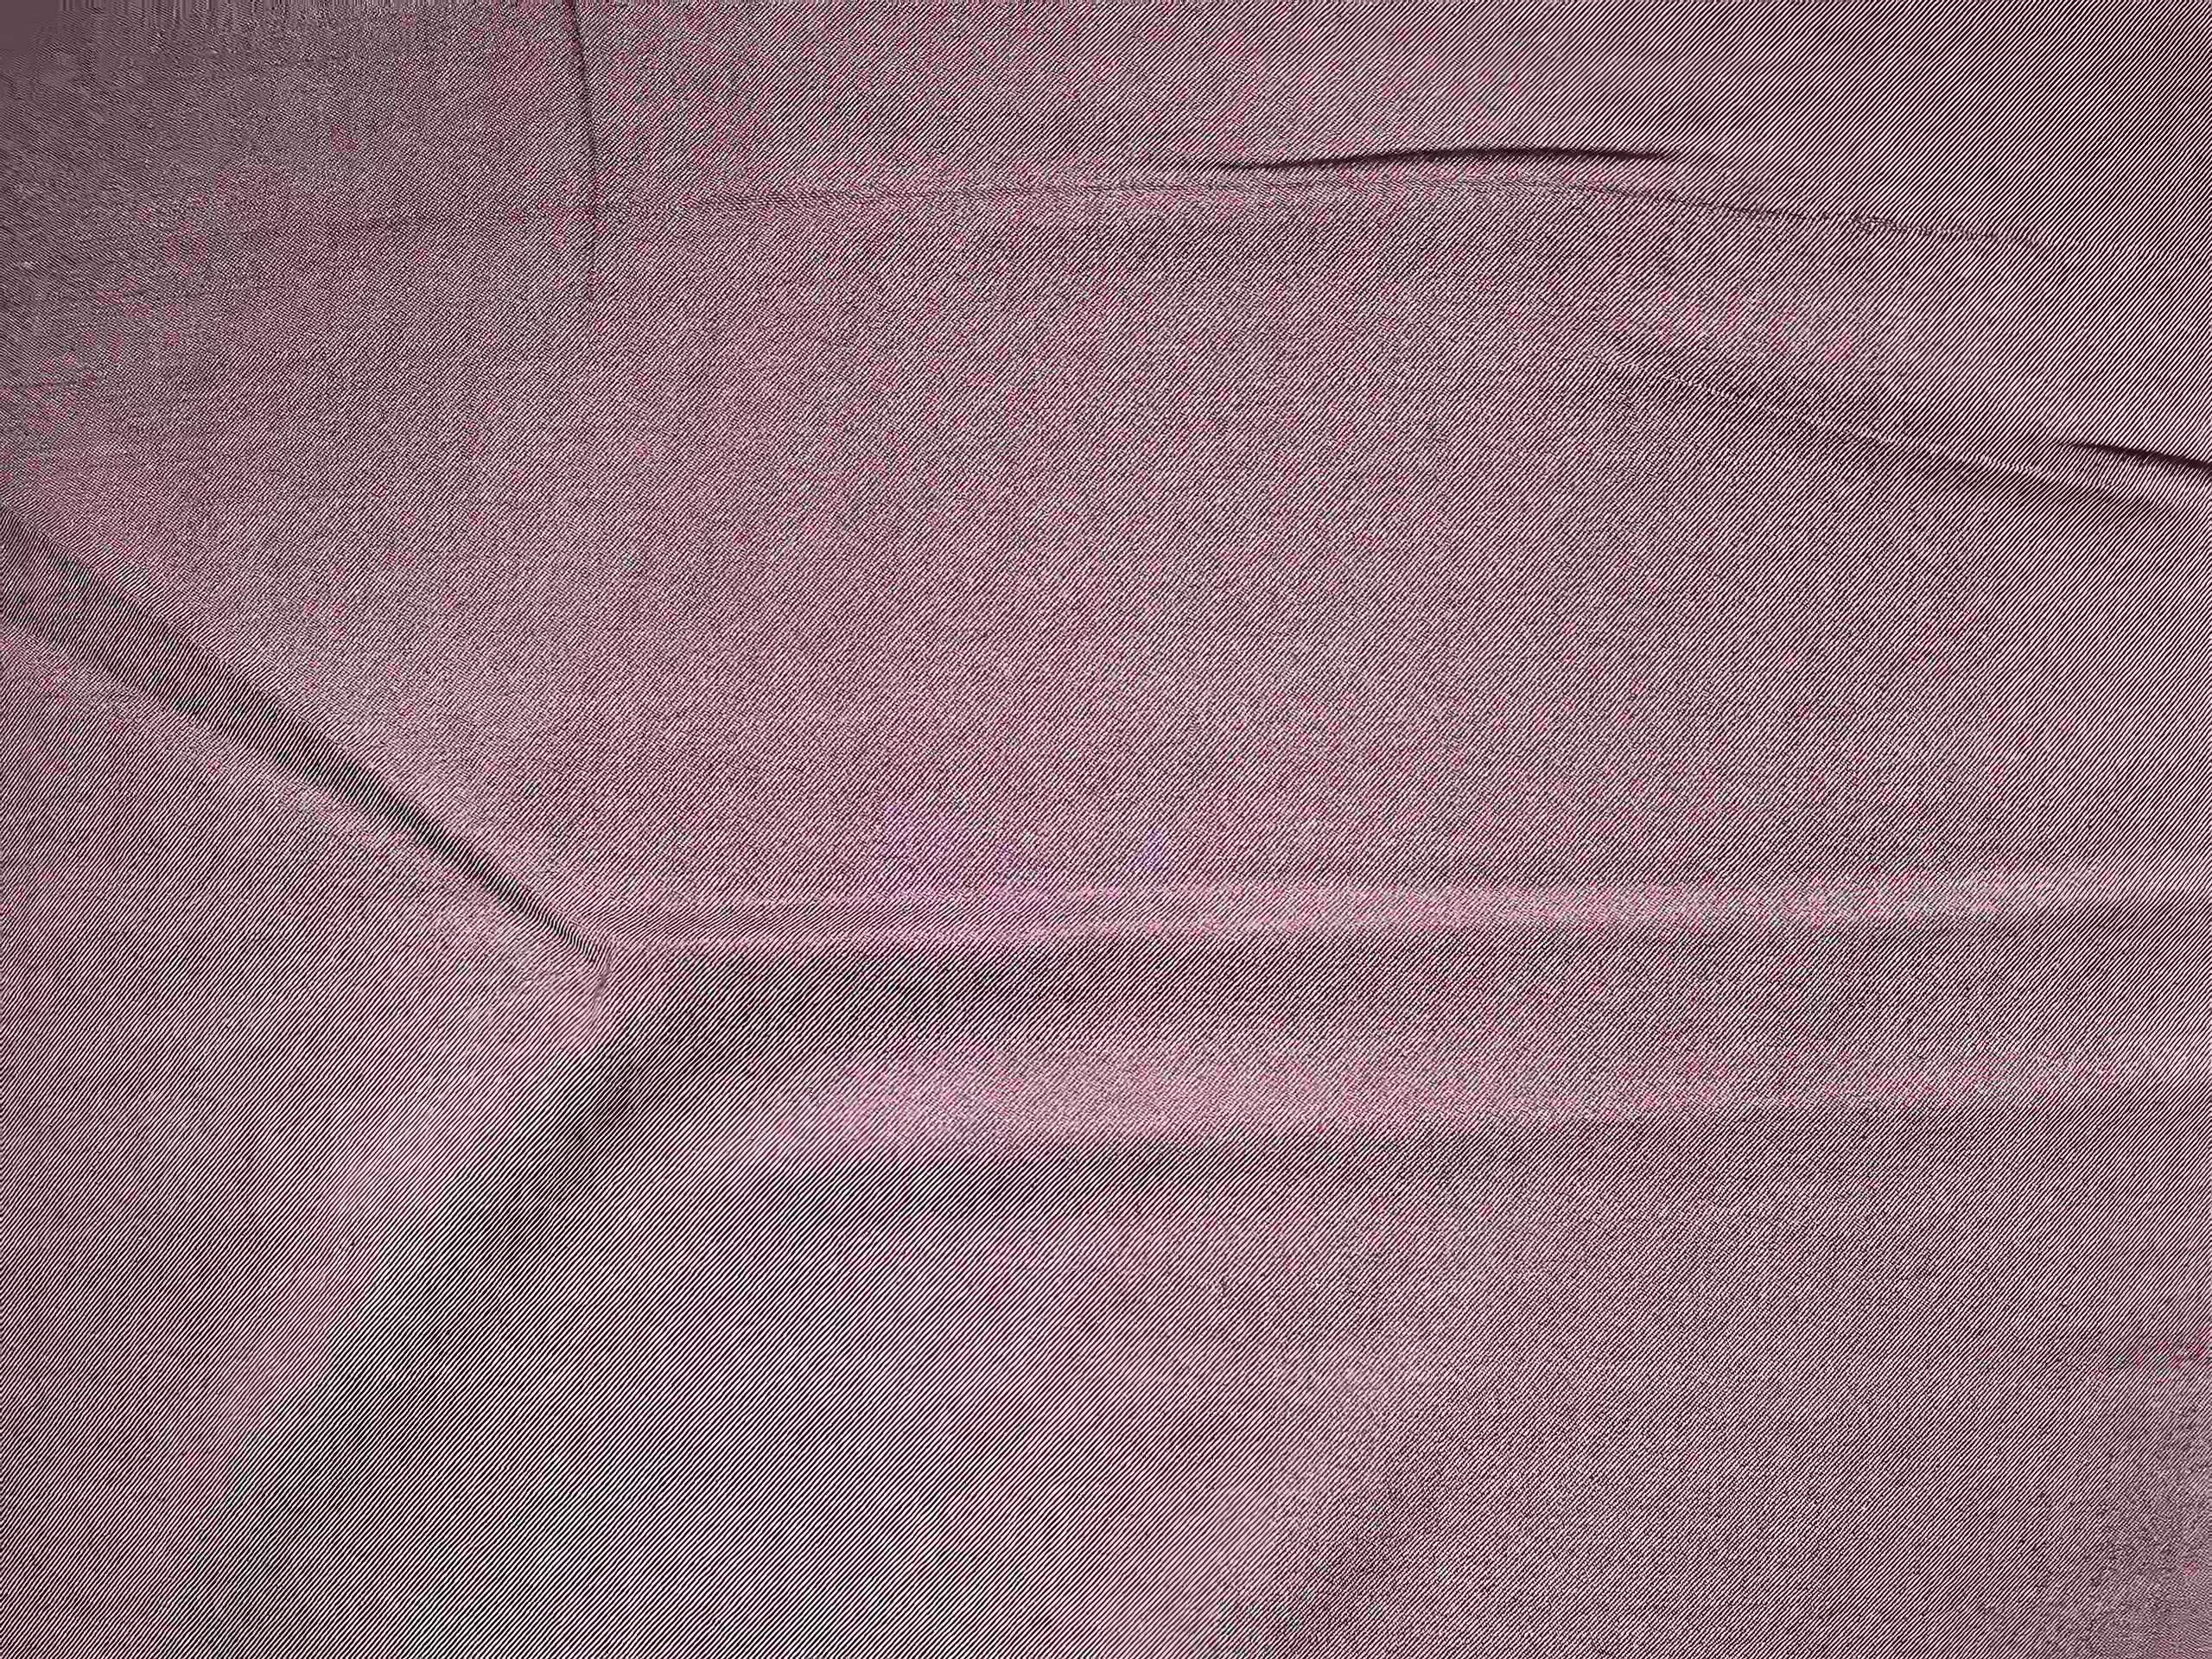thin-spinning: (636, 162, 1306, 218)
